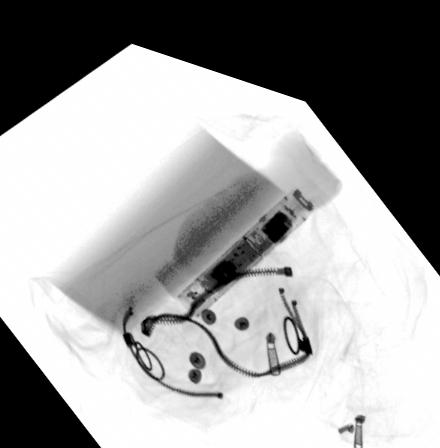Baton: (173, 164, 318, 307)
